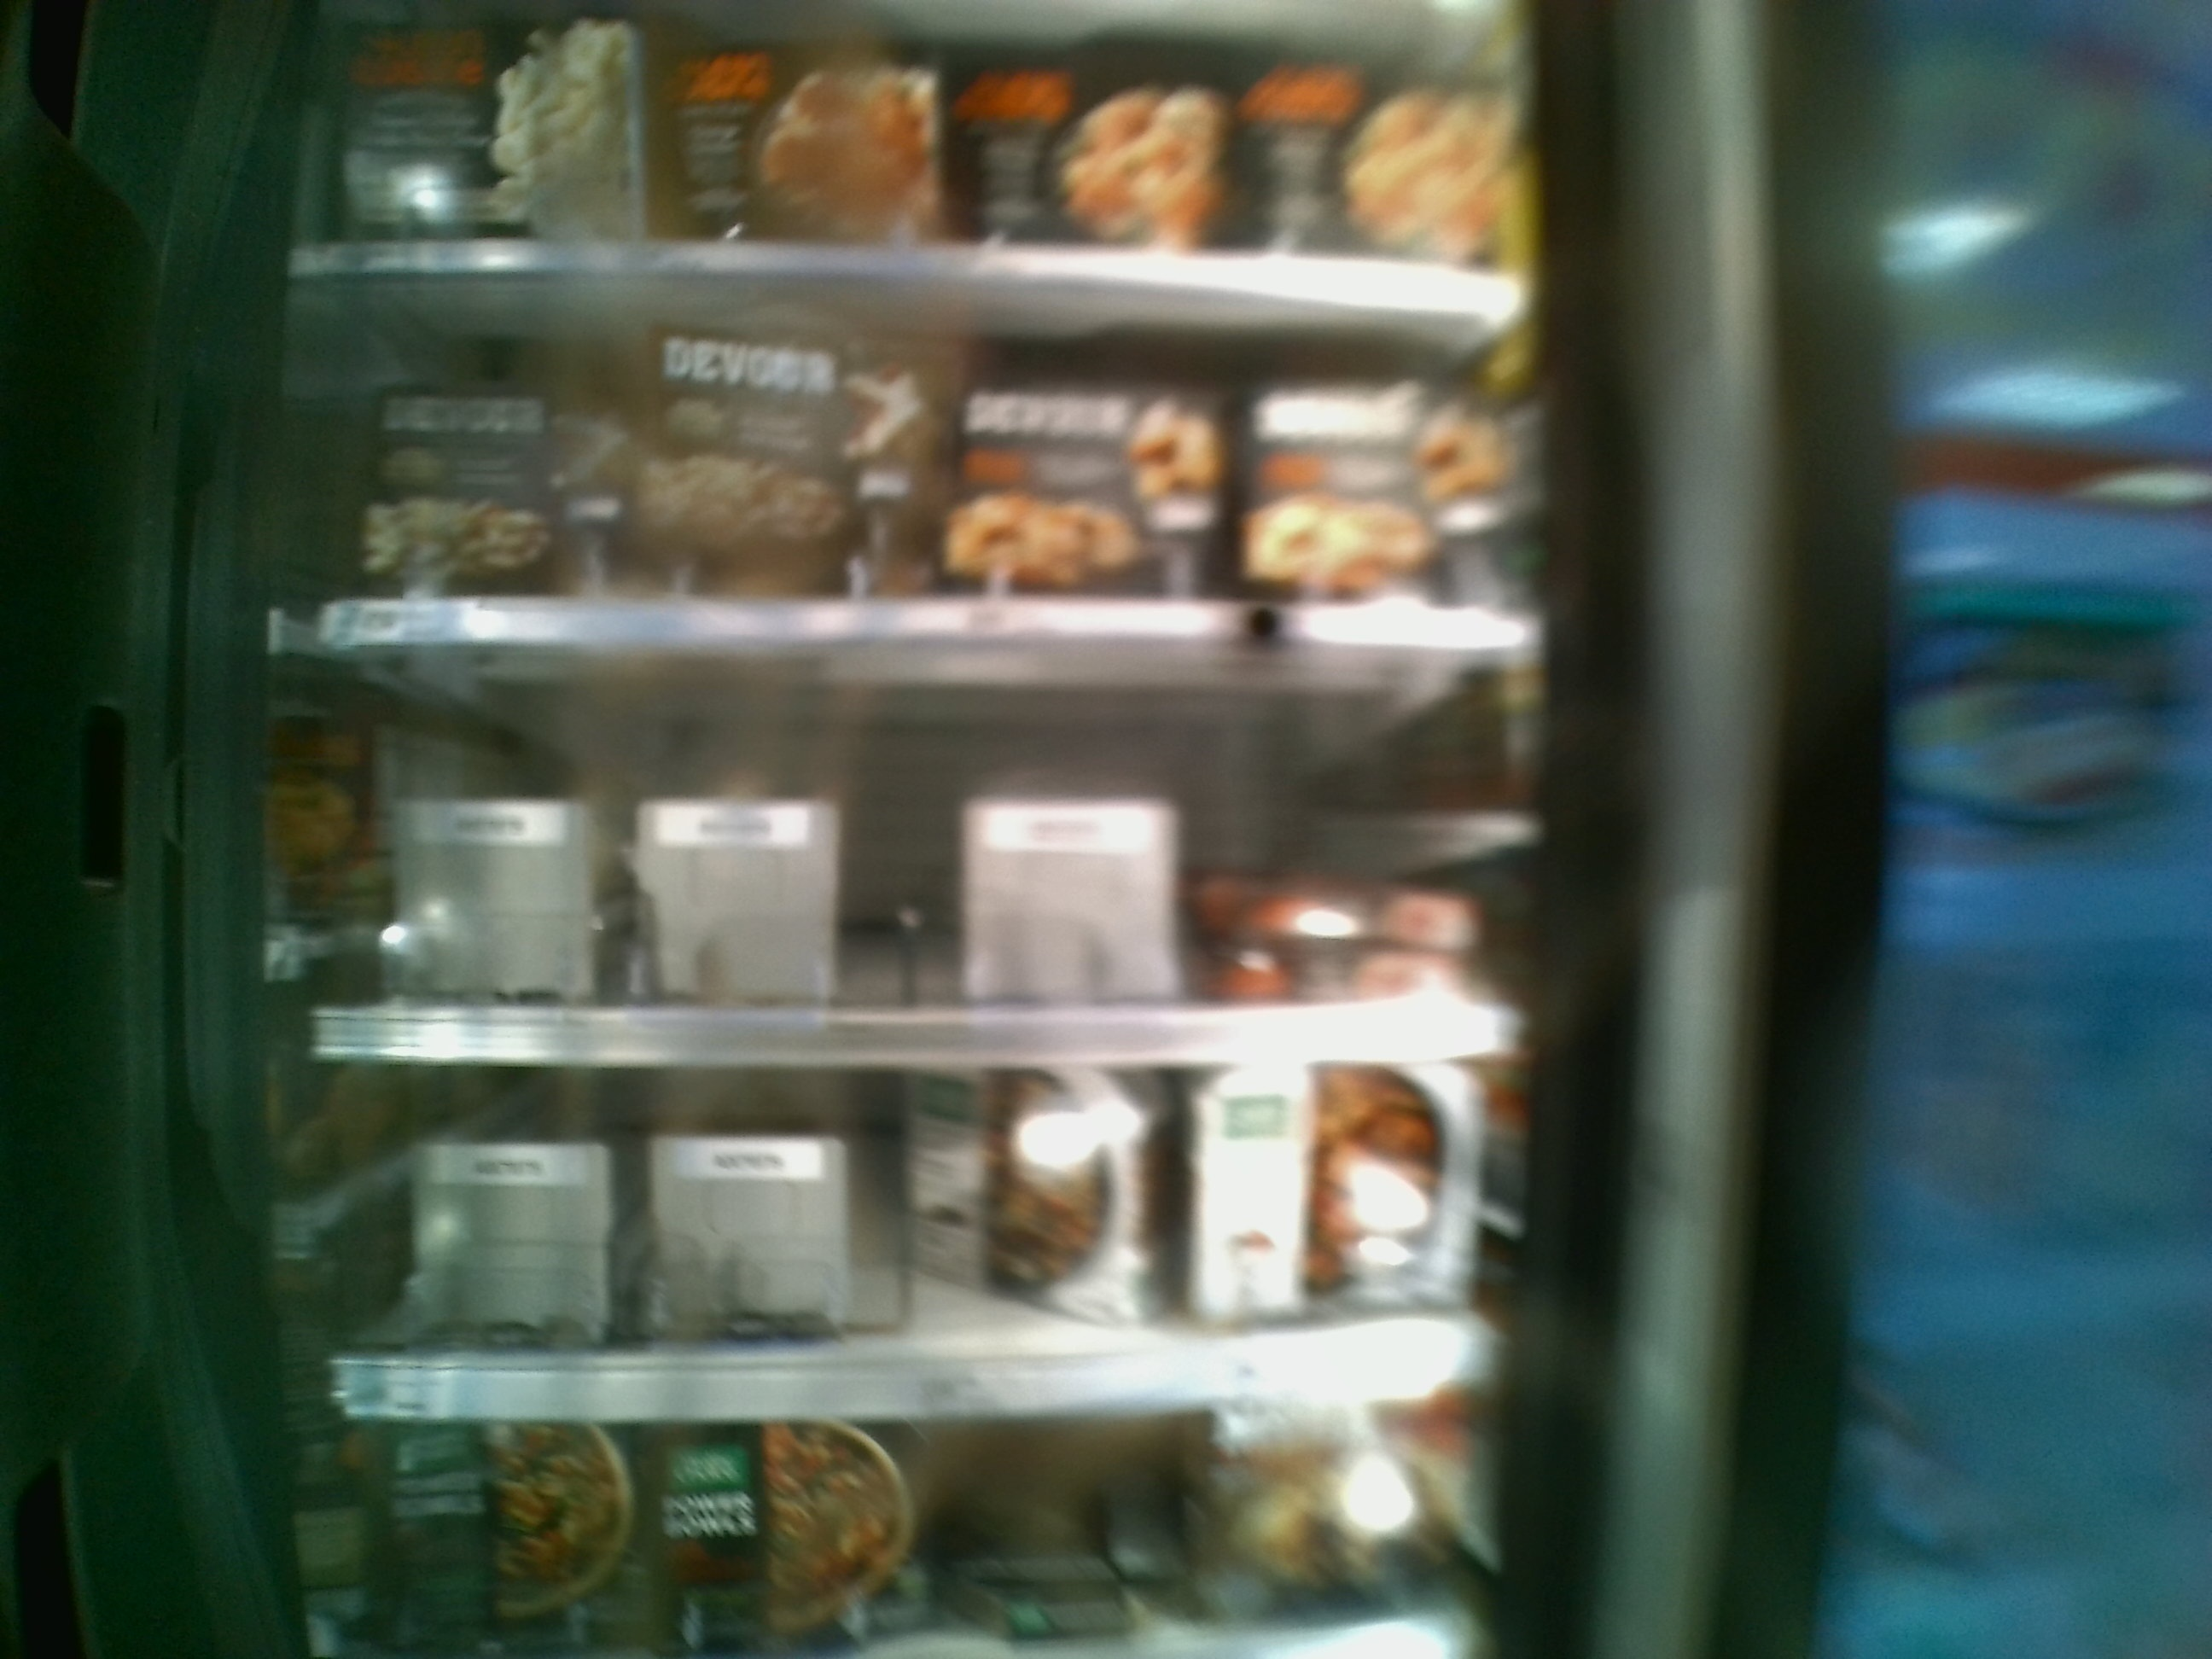shelf: (296, 647, 1529, 1060), (289, 277, 1533, 647), (296, 1060, 1526, 1412)
